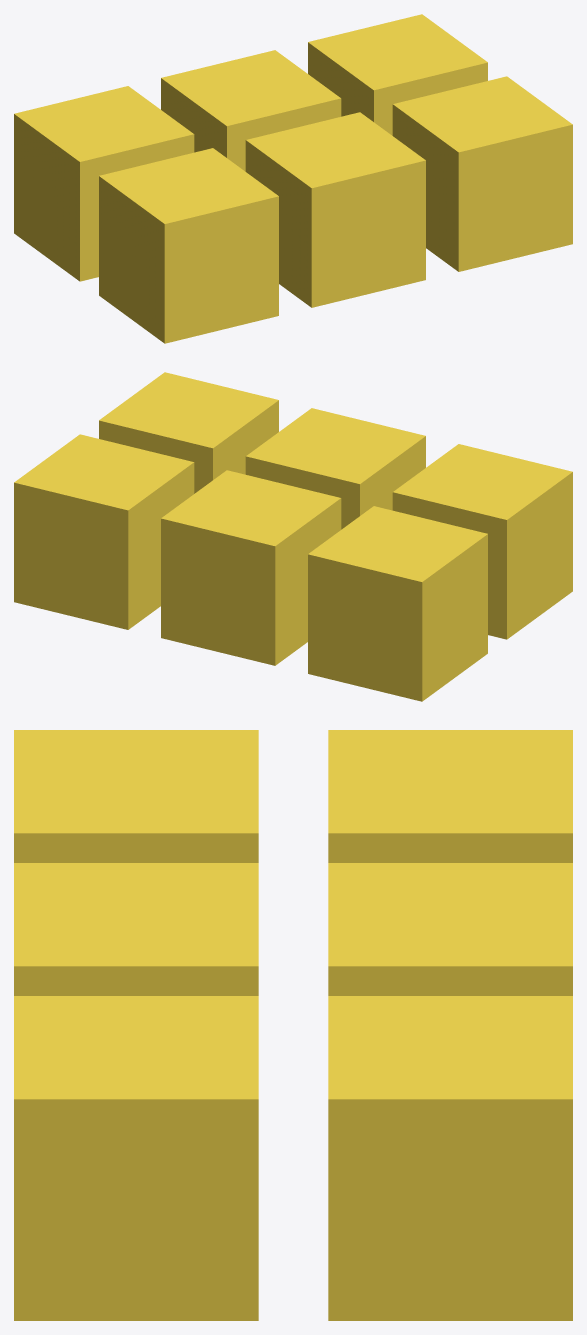
File: cubes.fbx
3 views of the same model, one above another, from view 1: azimuth 30°, elevation 25°; view 2: azimuth 150°, elevation 25°; view 3: azimuth 270°, elevation 25° (orthographic). The views are drawn at different scales.
Parts seen in each view (by area): view 1: cubes; view 2: cubes; view 3: cubes.
Boxes of the visible parts, x1,y1,x2,y2 form: cubes: (14,14,572,343); cubes: (14,372,572,701); cubes: (14,730,572,1320).
Size of the model in its own units: 50 by 14 by 32.
